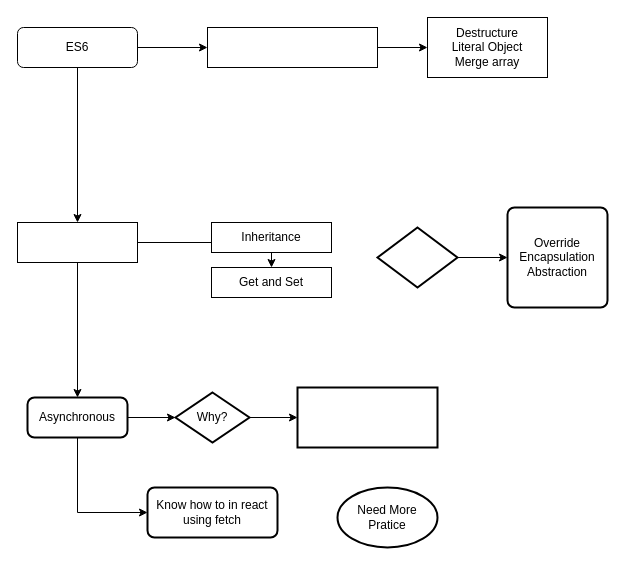
Image size: 626x566. Some labels were removed from this diagram. Here are the shapes that lost their labels. From the top down, the box of each, then its label:
(206, 26, 378, 68): How to code make simple
(16, 222, 138, 262): Class
(376, 226, 458, 288): Not yet
(296, 386, 438, 448): if json != finish function will return error
